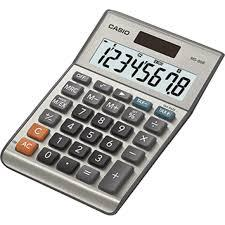Calculator: (0, 4, 225, 217)
